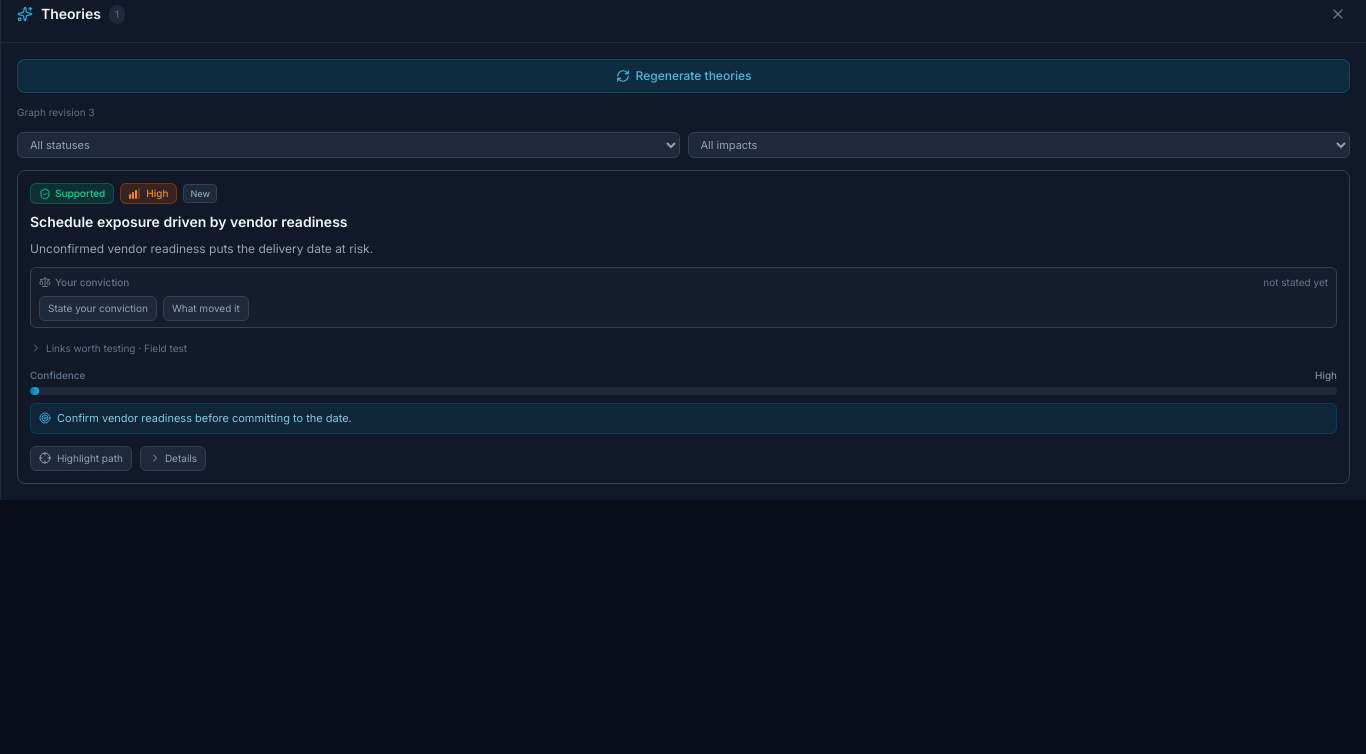
Test: Theory panel: tripwires › shows the tripwire, its direction and its date
The image size is (1366, 754).
What coordinates should you click on to do the following:
click the button "Details"
I would click on:
 (173, 458)
Its box is left=140, top=446, right=206, bottom=471.
(page scrolled)
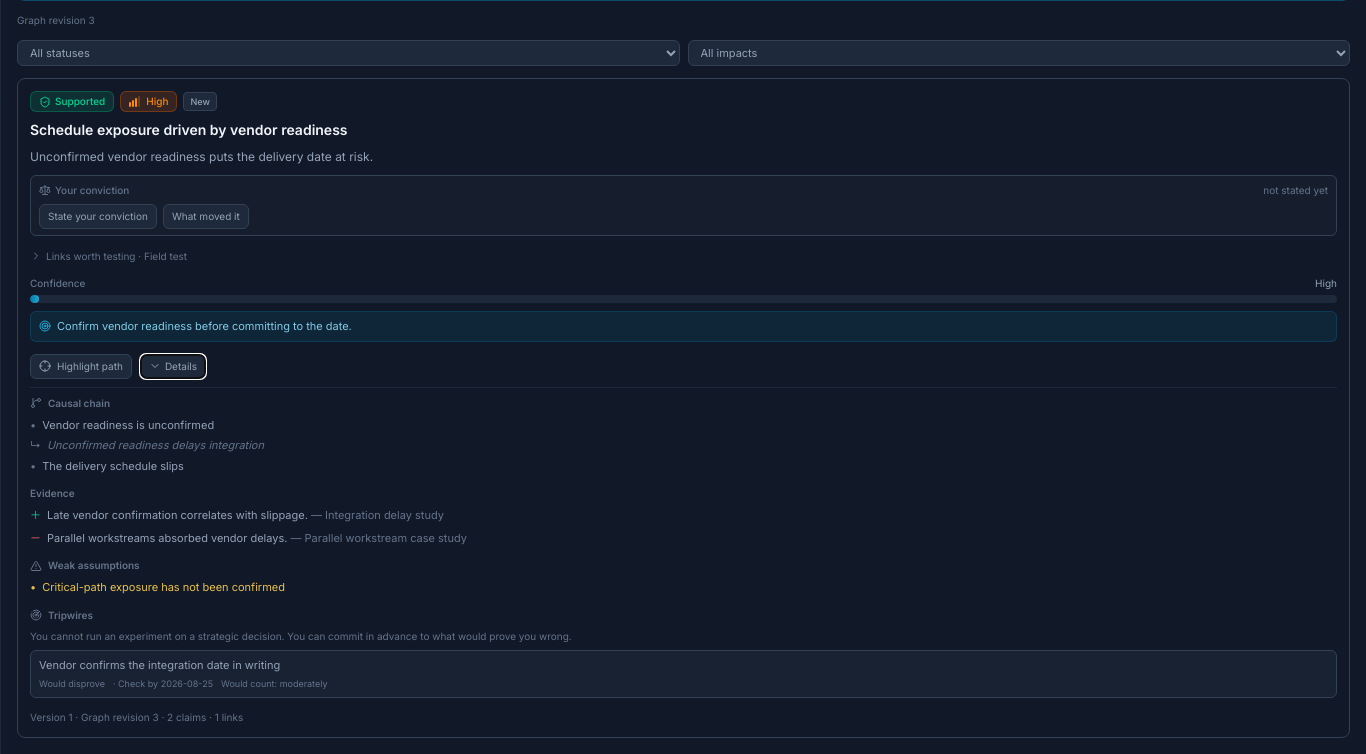
Expected: the text "Vendor confirms the integration date in writing" is shown, left=39, top=658, right=280, bottom=672
Expected: the text "Would disprove" is shown, left=39, top=677, right=105, bottom=691
Expected: the text "· Check by 2026-08-25" is shown, left=113, top=677, right=213, bottom=691
